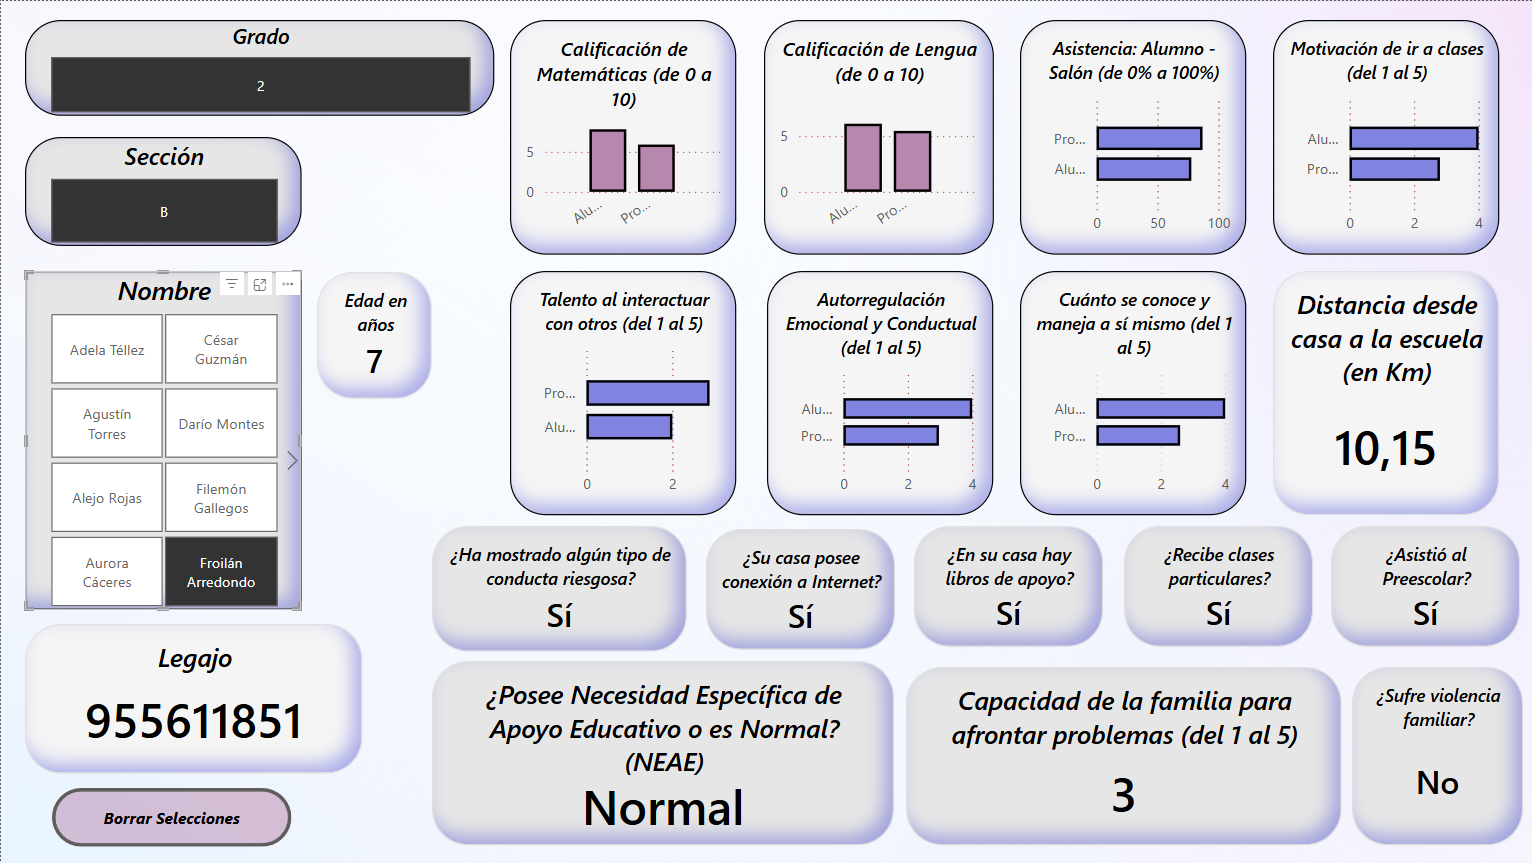

The dashboard page shown, as its layout file describes it:
{"tool":"powerbi","page":{"name":"X","canvas":[1280,720],"ordinal":0},"visuals":[{"type":"slicer","title":"Grado","fields":{"Values":["simulacion_estudiantes.grado"]},"box":[20.4,15.6,392,79.8],"z":0},{"type":"slicer","title":"Sección","fields":{"Values":["simulacion_estudiantes.seccion"]},"box":[20.4,113.8,230.5,91.4],"z":1000},{"type":"slicer","title":"Nombre","fields":{"Values":["simulacion_estudiantes.nombre"]},"box":[20.4,225.7,230.5,283],"z":2000},{"type":"card","title":"Legajo","fields":{"Values":["Min(simulacion_estudiantes.legajo)"]},"box":[20.4,520.4,282.1,125.5],"z":3000},{"type":"columnChart","title":"Calificación de Matemáticas (de 0 a 10)","fields":{"Y":["Comparacion.ValorComparacion"],"Category":["Comparacion.Tipo"]},"box":[425,15.6,188.7,195.5],"z":4000},{"type":"actionButton","box":[43,657,200,49],"z":5000},{"type":"clusteredColumnChart","title":"Calificación de Lengua (de 0 a 10)","fields":{"Category":["Comparacion.Tipo"],"Y":["Comparacion.ValorComparacionLengua"]},"box":[637.1,15.6,191.6,195.5],"z":6000},{"type":"barChart","title":"Asistencia: Alumno - Salón (de 0% a 100%)","fields":{"Category":["Comparacion.Tipo"],"Y":["Comparacion.ValorComparacionAsistencia"]},"box":[851.1,15.6,188.7,195.5],"z":7000},{"type":"barChart","title":"Motivación de ir a clases (del 1 al 5)","fields":{"Category":["Comparacion.Tipo"],"Y":["Comparacion.ValorComparacionMotivacion"]},"box":[1062.1,15.6,188.7,195.5],"z":8000},{"type":"barChart","title":"Autorregulación Emocional y Conductual (del 1 al 5)","fields":{"Category":["Comparacion.Tipo"],"Y":["Comparacion.ValorComparacionAutorregulacion"]},"box":[640,225.7,188.7,204.3],"z":9000},{"type":"barChart","title":"Talento al interactuar con otros (del 1 al 5)","fields":{"Category":["Comparacion.Tipo"],"Y":["Comparacion.ValorComparacionInterpersonal"]},"box":[425,225.7,188.7,204.3],"z":10000},{"type":"barChart","title":"Cuánto se conoce y maneja a sí mismo (del 1 al 5)","fields":{"Category":["Comparacion.Tipo"],"Y":["Comparacion.ValorComparacionIntrapersonal"]},"box":[851.1,225.7,188.7,204.3],"z":11000},{"type":"card","title":"¿En su casa hay libros de apoyo?","fields":{"Values":["simulacion_estudiantes.TieneLibrosEnCasa"]},"box":[762.6,438.7,157.6,101.2],"z":12000},{"type":"card","title":"¿Su casa posee conexión a Internet?","fields":{"Values":["simulacion_estudiantes.TieneInternetEnCasa"]},"box":[588.4,440.6,157.6,101.2],"z":13000},{"type":"card","title":"Distancia desde casa a la escuela (en Km)","fields":{"Values":["Sum(simulacion_estudiantes.distancia_escuela_km)"]},"box":[1062.1,225.7,188.7,204.3],"z":14000},{"type":"card","title":"¿Recibe clases particulares?","fields":{"Values":["simulacion_estudiantes.AdecuacionesCurriculares"]},"box":[937.6,438.7,157.6,101.2],"z":15000},{"type":"card","title":"¿Posee Necesidad Específica de Apoyo Educativo o es Normal? (NEAE)","fields":{"Values":["Min(simulacion_estudiantes.tipo_neae)"]},"box":[359.9,551.5,386.1,153.7],"z":16000},{"type":"card","title":"¿Sufre violencia familiar?","fields":{"Values":["simulacion_estudiantes.ViolenciaFamiliar"]},"box":[1128.3,556.4,143,148.8],"z":17000},{"type":"card","title":"¿Ha mostrado algún tipo de conducta riesgosa?","fields":{"Values":["simulacion_estudiantes.ConductaRiesgoObservada"]},"box":[359.9,438.7,213,105],"z":18000},{"type":"card","title":"Capacidad de la familia para afrontar problemas (del 1 al 5)","fields":{"Values":["Sum(simulacion_estudiantes.resiliencia_familiar)"]},"box":[755.7,556.4,363.8,148.8],"z":19000},{"type":"card","title":"Edad en años","fields":{"Values":["Sum(simulacion_estudiantes.edad)"]},"box":[263.6,226.6,96.3,106],"z":20000},{"type":"card","title":"¿Asistió al Preescolar?","fields":{"Values":["simulacion_estudiantes.AsistenciaInicial"]},"box":[1110.8,438.7,157.6,101.2],"z":21000}]}

Visuals, with their boxes in screenshot pixels (x1, y1, x2, y2), scaled from the page's 1280x720 canvas onto the 1532x863 screenshot:
"Grado" slicer: bbox=(24, 19, 494, 114)
"Sección" slicer: bbox=(24, 136, 300, 246)
"Nombre" slicer: bbox=(24, 271, 300, 610)
"Legajo" card: bbox=(24, 624, 362, 774)
"Calificación de Matemáticas (de 0 a 10)" columnChart: bbox=(509, 19, 735, 253)
actionButton: bbox=(51, 787, 291, 846)
"Calificación de Lengua (de 0 a 10)" clusteredColumnChart: bbox=(763, 19, 992, 253)
"Asistencia: Alumno - Salón (de 0% a 100%)" barChart: bbox=(1019, 19, 1245, 253)
"Motivación de ir a clases (del 1 al 5)" barChart: bbox=(1271, 19, 1497, 253)
"Autorregulación Emocional y Conductual (del 1 al 5)" barChart: bbox=(766, 271, 992, 515)
"Talento al interactuar con otros (del 1 al 5)" barChart: bbox=(509, 271, 735, 515)
"Cuánto se conoce y maneja a sí mismo (del 1 al 5)" barChart: bbox=(1019, 271, 1245, 515)
"¿En su casa hay libros de apoyo?" card: bbox=(913, 526, 1101, 647)
"¿Su casa posee conexión a Internet?" card: bbox=(704, 528, 893, 649)
"Distancia desde casa a la escuela (en Km)" card: bbox=(1271, 271, 1497, 515)
"¿Recibe clases particulares?" card: bbox=(1122, 526, 1311, 647)
"¿Posee Necesidad Específica de Apoyo Educativo o es Normal? (NEAE)" card: bbox=(431, 661, 893, 845)
"¿Sufre violencia familiar?" card: bbox=(1350, 667, 1522, 845)
"¿Ha mostrado algún tipo de conducta riesgosa?" card: bbox=(431, 526, 686, 652)
"Capacidad de la familia para afrontar problemas (del 1 al 5)" card: bbox=(904, 667, 1340, 845)
"Edad en años" card: bbox=(315, 272, 431, 399)
"¿Asistió al Preescolar?" card: bbox=(1329, 526, 1518, 647)
